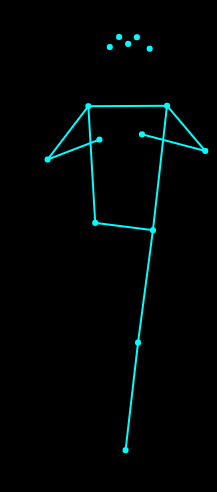tree: (43, 27, 210, 455)
